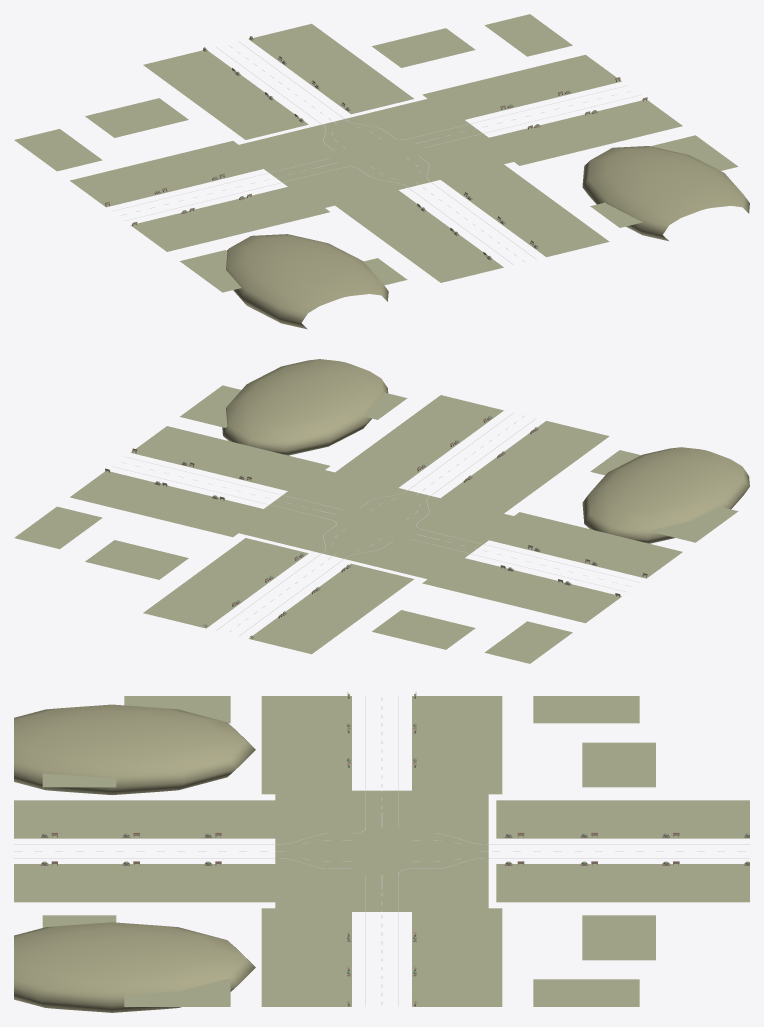
3 renders of one model, top to bottom at view 1: azimuth 30°, elevation 25°; view 2: azimuth 150°, elevation 25°; view 3: azimuth 270°, elevation 25°, orthographic. The views are drawn at different scales.
Parts seen in each view (by area): view 1: static; view 2: static; view 3: static.
Part boxes in pixels (<box>): static: <box>14,14,749,329</box>; static: <box>14,359,749,663</box>; static: <box>14,692,749,1012</box>.
Size of what is drawn, in the model's own units: 180 by 14.08 by 180.
